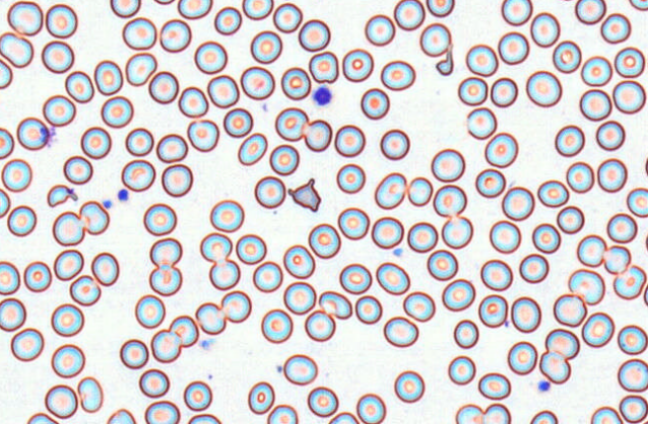PLT: (313, 86, 333, 106), (116, 189, 132, 202), (537, 380, 553, 393), (103, 199, 112, 209)
RBC: (568, 268, 605, 305), (525, 70, 562, 107), (7, 0, 43, 36), (50, 343, 85, 378), (484, 131, 518, 167), (0, 31, 33, 68), (612, 264, 646, 299), (274, 106, 308, 141), (375, 261, 410, 295), (552, 293, 587, 327), (307, 223, 341, 258), (240, 66, 275, 100), (430, 148, 465, 182), (52, 210, 85, 246), (581, 311, 614, 347), (374, 172, 406, 209), (143, 202, 177, 236), (122, 16, 156, 50), (10, 327, 44, 361), (193, 40, 227, 74), (612, 80, 646, 114), (282, 244, 315, 279), (44, 384, 77, 419), (260, 308, 293, 343), (501, 186, 534, 221), (209, 199, 244, 232), (282, 353, 318, 385), (510, 296, 541, 333), (283, 281, 316, 315), (16, 116, 49, 150), (441, 278, 475, 311), (50, 303, 84, 336), (186, 118, 219, 152), (432, 184, 466, 217), (488, 219, 521, 253), (206, 74, 239, 108), (121, 159, 155, 192), (419, 22, 451, 57), (383, 315, 418, 347), (45, 3, 77, 38), (41, 40, 74, 73), (371, 216, 404, 249), (100, 95, 133, 128), (579, 88, 612, 121), (465, 43, 498, 76), (539, 350, 571, 384), (161, 163, 193, 197), (441, 215, 473, 249), (125, 52, 157, 86), (0, 158, 32, 192), (337, 206, 369, 240), (42, 94, 76, 126), (159, 18, 191, 52), (497, 31, 529, 65), (341, 48, 373, 82), (250, 30, 282, 64), (544, 328, 579, 359), (380, 59, 415, 90), (596, 157, 627, 192), (530, 11, 560, 47), (93, 59, 123, 95), (254, 175, 286, 208), (298, 18, 330, 51), (339, 262, 372, 294), (480, 258, 512, 291), (148, 70, 179, 104), (150, 329, 181, 363), (280, 66, 311, 100), (195, 301, 226, 335), (134, 294, 165, 328), (79, 200, 109, 235), (507, 340, 537, 375), (69, 274, 101, 306), (426, 249, 458, 281), (220, 290, 251, 323), (149, 265, 182, 296), (168, 314, 199, 347), (80, 126, 111, 159), (304, 309, 335, 342), (402, 291, 435, 322), (576, 234, 607, 267), (466, 106, 497, 139), (477, 294, 508, 327), (393, 370, 424, 403), (334, 124, 365, 157), (302, 118, 332, 152), (617, 358, 647, 392), (90, 251, 119, 286), (208, 259, 240, 290), (252, 260, 283, 292), (53, 248, 84, 280), (306, 386, 338, 417), (600, 12, 631, 44), (364, 14, 395, 46), (580, 55, 612, 86), (554, 124, 585, 156), (614, 46, 645, 78), (149, 237, 182, 267), (199, 232, 232, 262), (64, 70, 94, 103), (237, 132, 267, 165), (308, 50, 338, 83), (235, 233, 266, 264), (407, 221, 438, 252), (606, 212, 637, 243), (269, 143, 299, 175), (393, 0, 425, 30), (178, 86, 208, 118), (379, 128, 409, 160), (552, 40, 581, 73), (477, 372, 511, 400), (138, 368, 169, 398), (474, 168, 505, 198), (518, 253, 549, 283), (272, 2, 302, 33), (119, 338, 149, 369), (617, 324, 647, 355), (595, 120, 625, 151), (7, 204, 36, 236), (23, 260, 52, 292), (565, 161, 594, 193), (360, 87, 389, 119), (156, 133, 188, 162), (247, 381, 275, 414), (356, 393, 386, 423), (223, 107, 253, 137), (183, 380, 212, 411), (531, 222, 560, 253), (537, 179, 569, 207), (0, 297, 26, 331), (63, 155, 93, 184), (447, 355, 476, 385), (457, 76, 487, 105), (336, 163, 365, 193), (618, 394, 647, 423), (125, 127, 154, 156), (603, 244, 631, 274), (354, 294, 382, 324), (490, 77, 518, 107), (144, 400, 180, 423), (556, 205, 584, 234), (213, 6, 241, 35), (406, 176, 433, 206), (501, 0, 532, 26), (574, 0, 606, 24), (453, 319, 478, 348), (0, 260, 20, 295), (177, 0, 212, 19), (241, 0, 273, 20), (626, 187, 647, 217), (266, 404, 298, 423), (590, 405, 622, 423), (455, 403, 483, 423), (482, 403, 510, 423), (109, 0, 140, 18), (426, 0, 454, 17), (106, 408, 136, 423), (0, 127, 14, 159), (529, 409, 557, 423), (0, 58, 12, 89), (328, 411, 359, 423), (26, 412, 58, 423), (187, 413, 221, 423), (0, 188, 10, 218), (628, 0, 647, 11), (643, 282, 648, 307), (153, 0, 175, 5), (644, 229, 648, 254), (645, 154, 648, 178), (554, 0, 577, 1)
Schistocyte: (287, 178, 324, 215), (76, 375, 105, 413), (319, 290, 354, 320), (47, 185, 82, 206), (435, 48, 457, 77), (80, 206, 82, 208)
